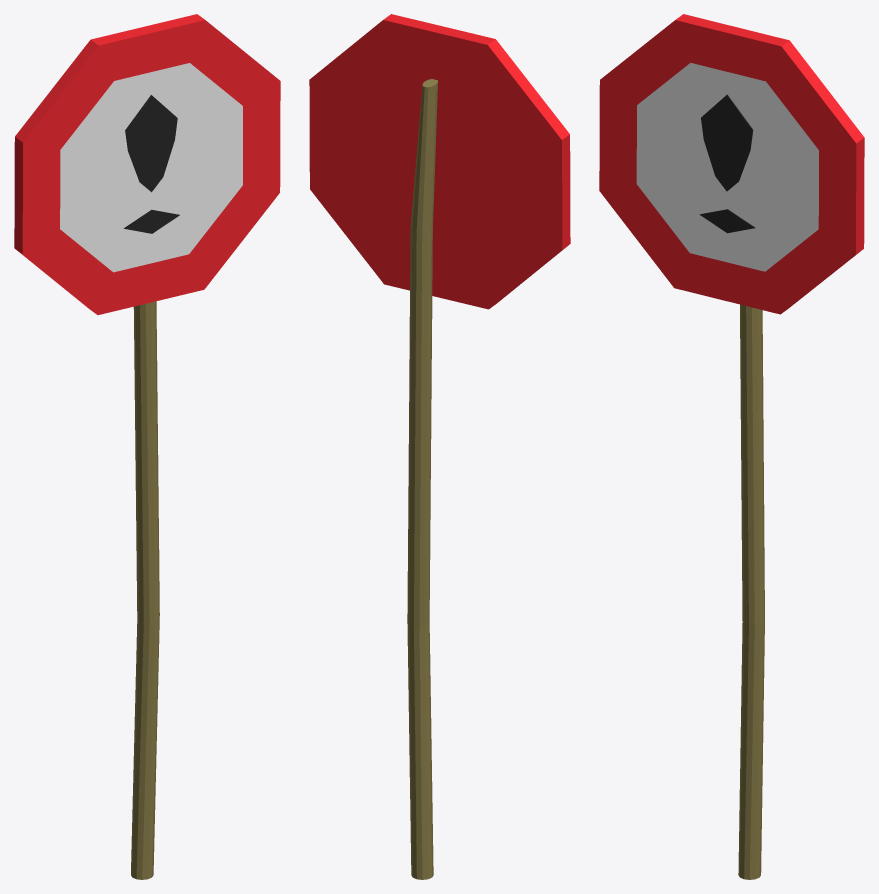
File: signboard04.fbx
The picture shows the model from 3 angles, left to right: view 1: azimuth 30°, elevation 25°; view 2: azimuth 150°, elevation 25°; view 3: azimuth 330°, elevation 25°; orthographic projection.
Parts seen in each view (by area): view 1: Circle.008; view 2: Circle.008; view 3: Circle.008.
Part boxes in pixels (x1,y1,x2,y2): Circle.008: (14,14,280,879); Circle.008: (309,14,570,879); Circle.008: (599,14,864,879).
Bounding box in the file's own units: 0.4625 × 1.47 × 0.0682.
